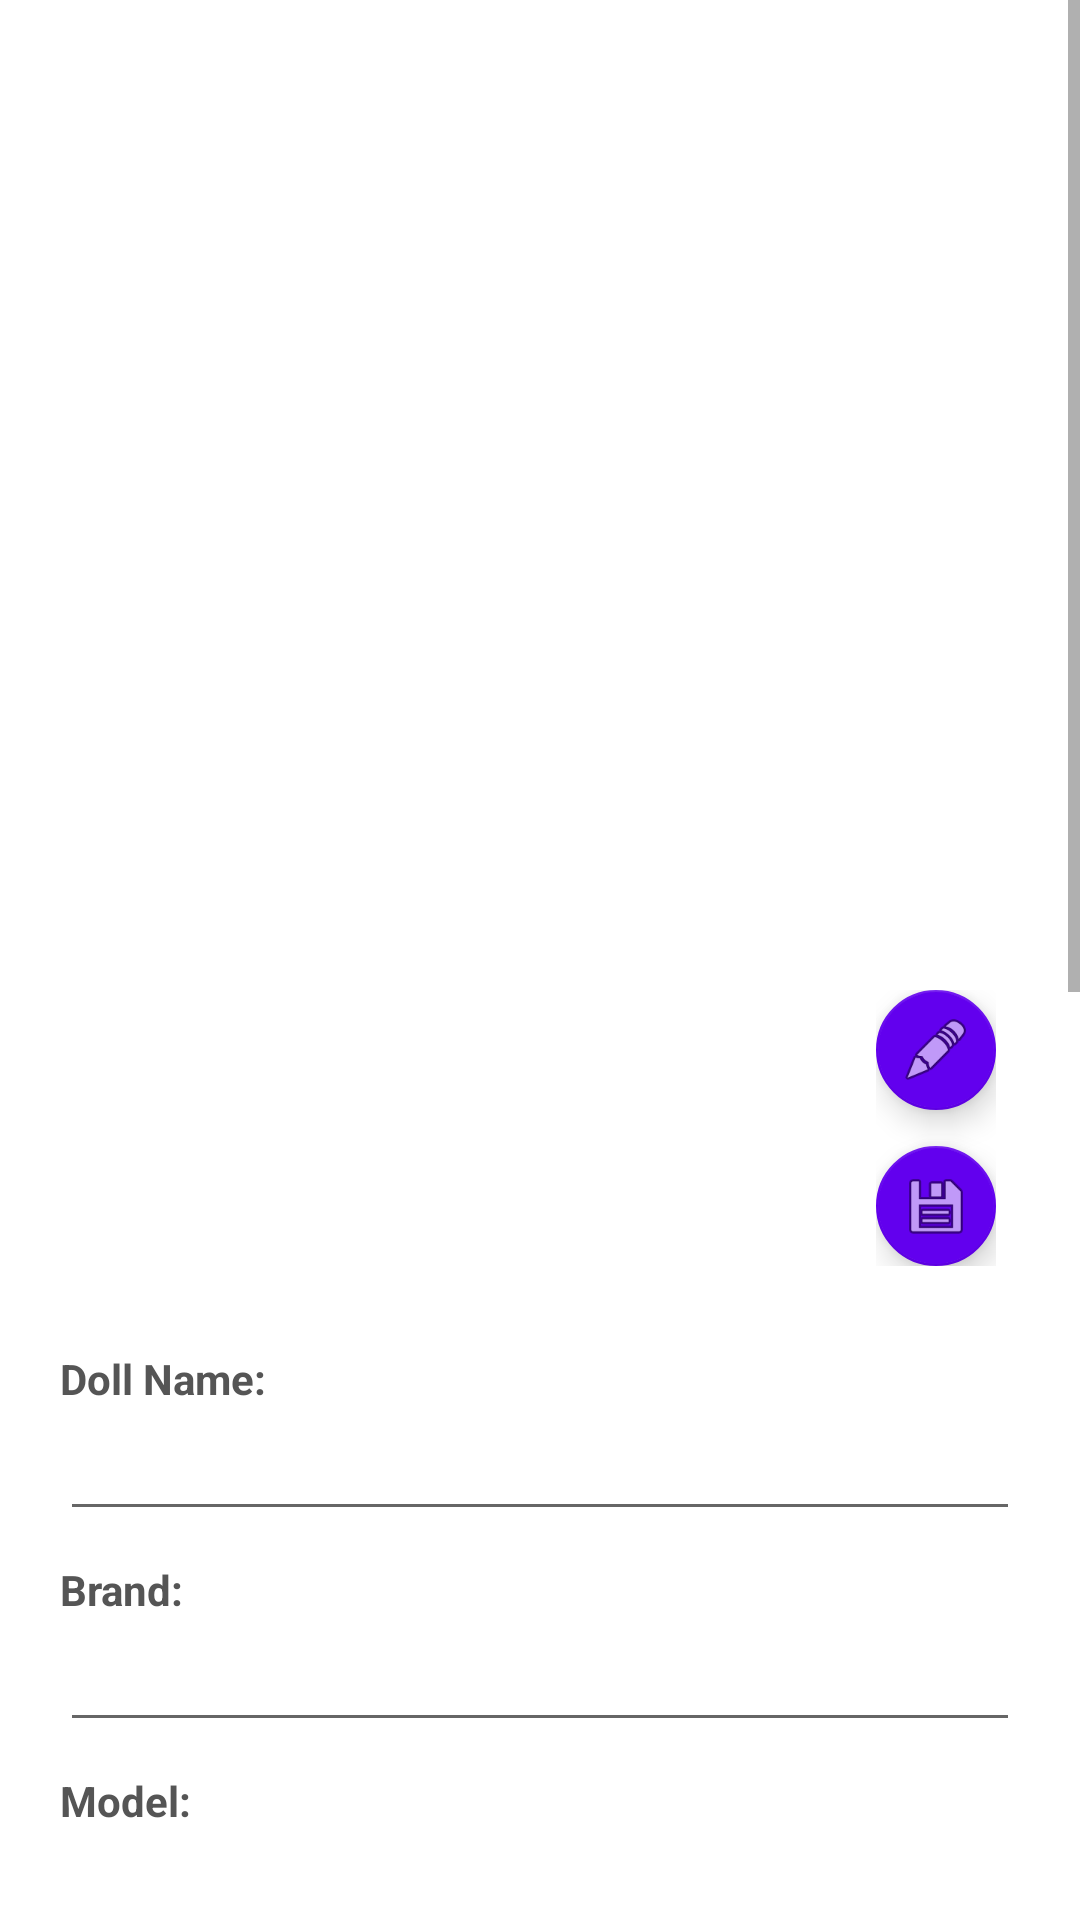

Point at icon controls on the screen. Image size 1080px×1920px, points as [x,y].
edit: [936,1050]
save: [936,1206]
